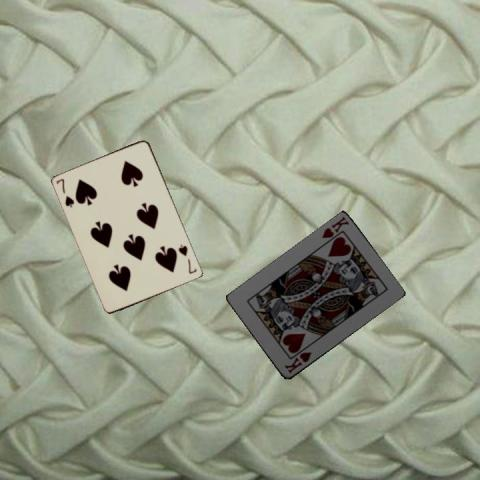7s: (175, 242, 199, 276), (53, 176, 76, 209)
Kh: (318, 213, 350, 240), (281, 349, 313, 375)
